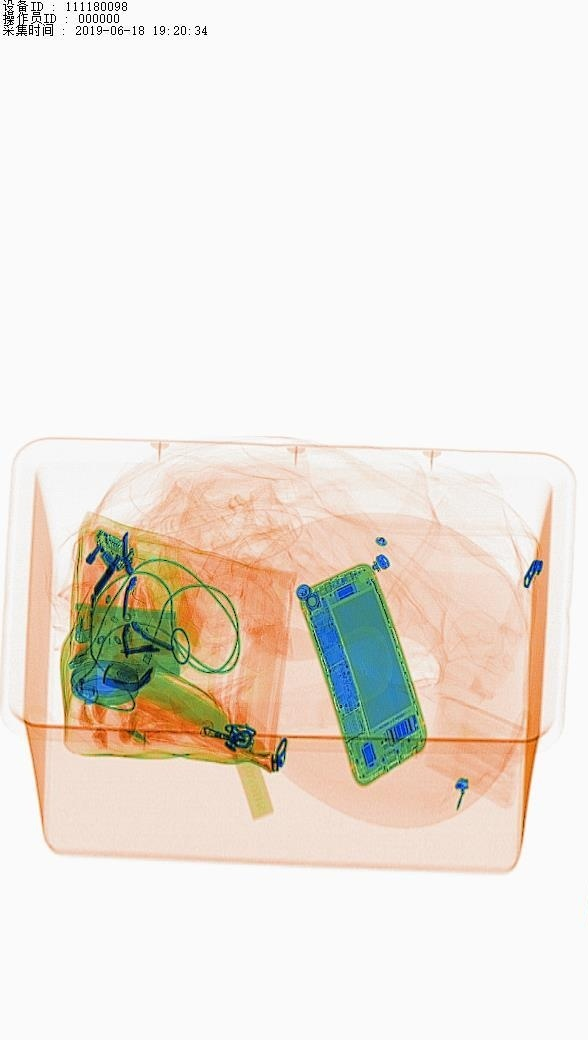NonmetallicFire: (70, 549, 120, 652), (71, 653, 111, 715)
